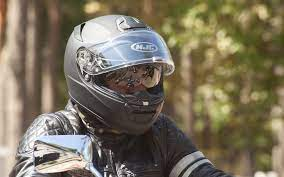helmets: (55, 10, 176, 140)
